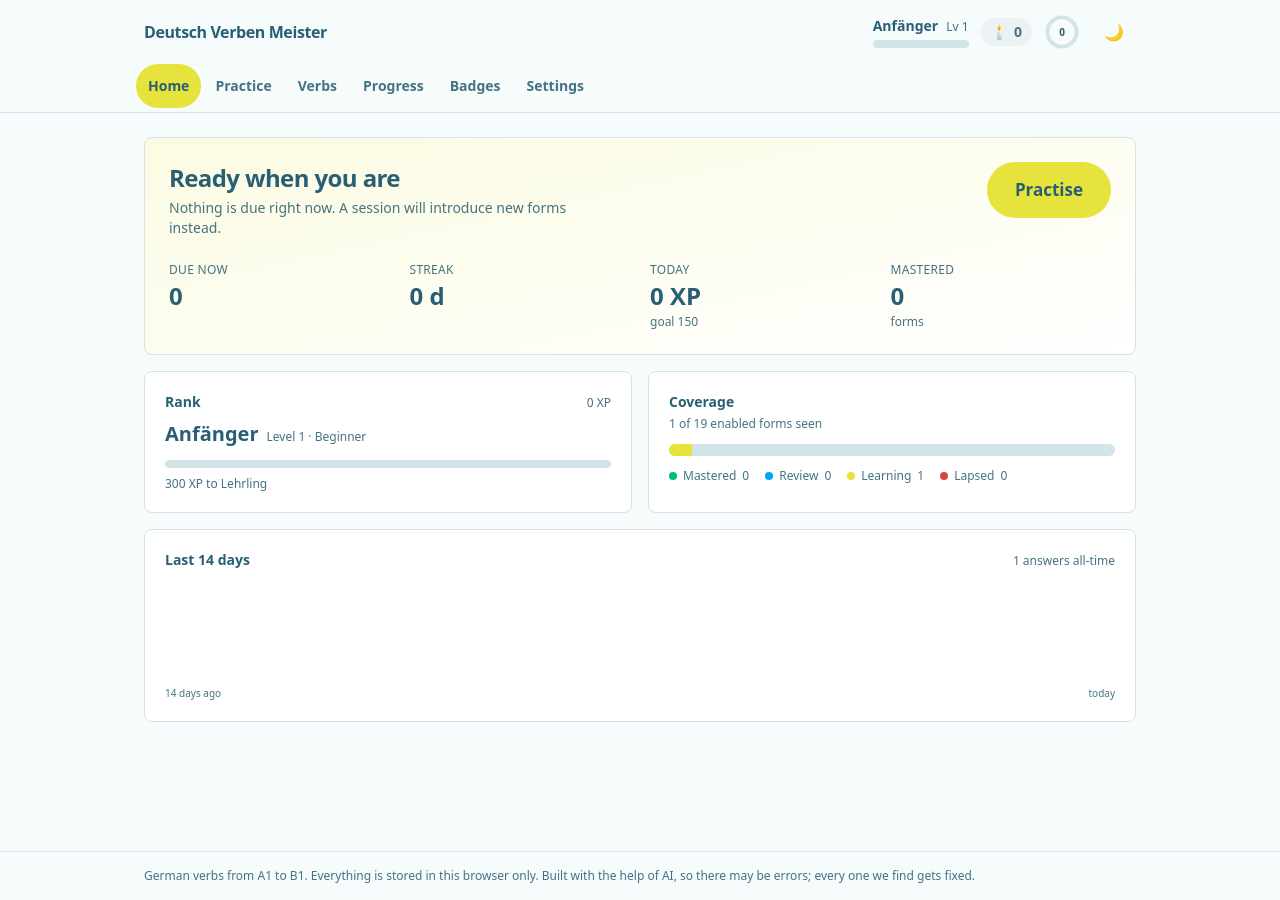
progress analytics › renders the analytics once answers exist
Check: the heading "Ready when you are" is shown, box [169,161,400,194]
Click the link "Progress" at (393, 86), box [363,76,424,95]
(page scrolled)
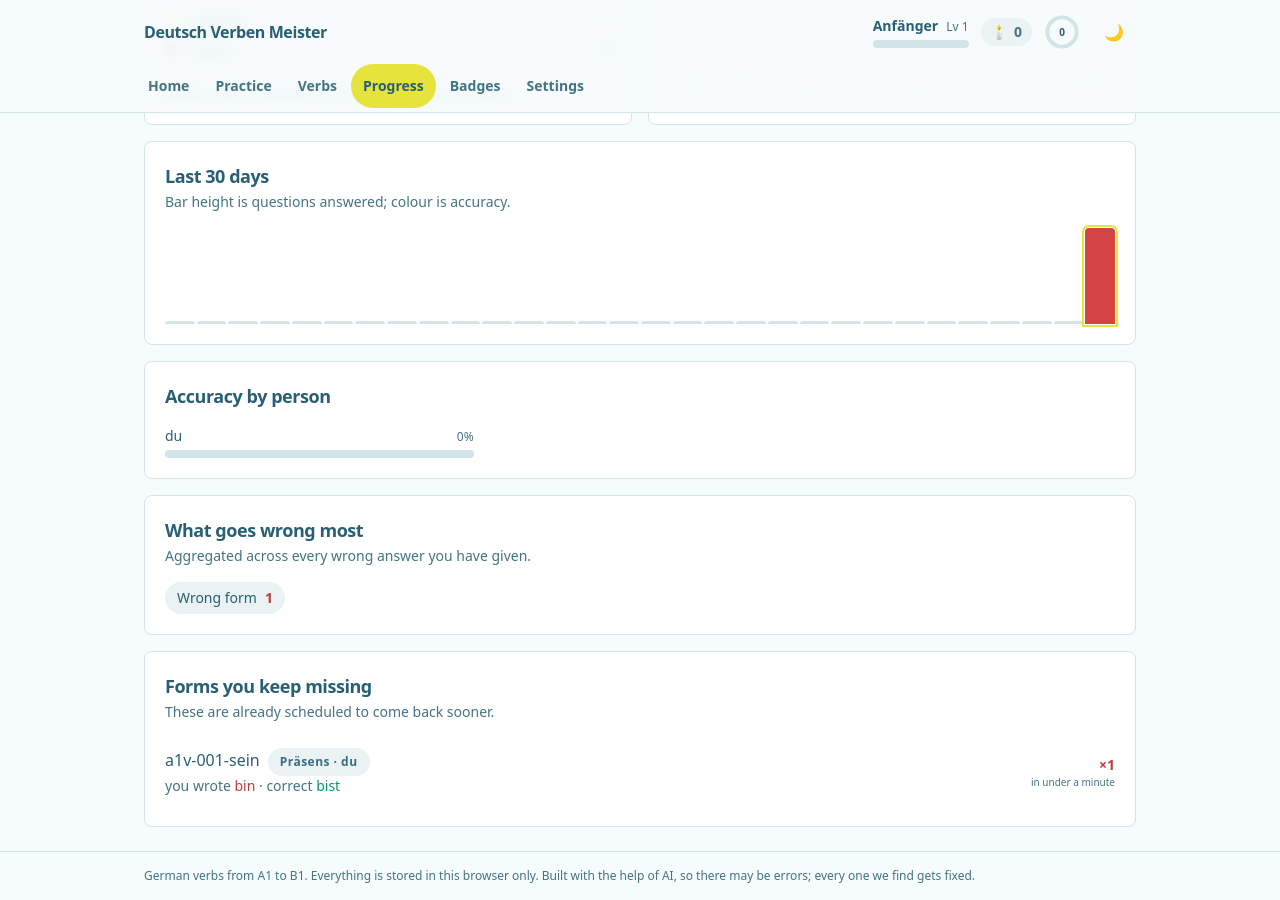
Check: the heading "Forms you keep missing" is shown, box [165,674,372,698]
Check: the text "bist" is shown, box [316,776,340,795]
